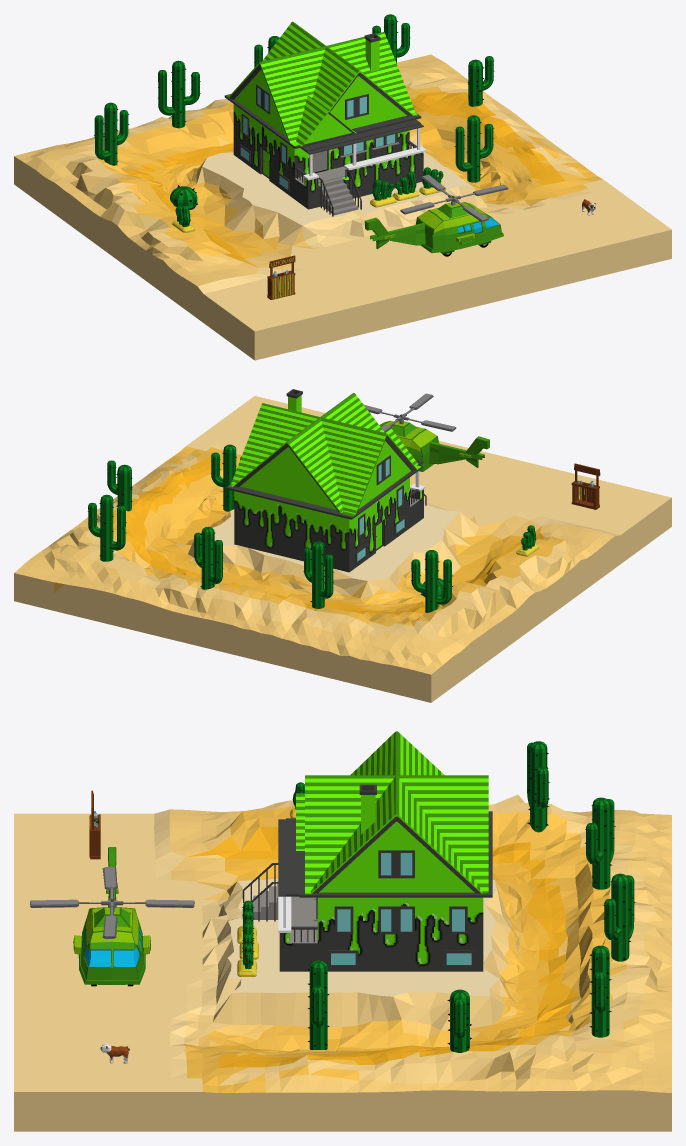
3 renders of one model, top to bottom at view 1: azimuth 30°, elevation 25°; view 2: azimuth 150°, elevation 25°; view 3: azimuth 270°, elevation 25°, orthographic. The views are drawn at different scales.
Parts seen in each view (by area): view 1: Cube.001, Cube.754, VEHICLES_HELICOPTER, Cylinder.037, Cylinder.044, Cylinder.045, Cylinder.038, OBJRANDOM_LEMONADE_STAND, Cylinder.042, Cylinder.039, Sphere.023, Cylinder.040; view 2: Cube.001, Cube.754, VEHICLES_HELICOPTER, Cylinder.042, Cylinder.045, Cylinder.044, Cylinder.043, Cylinder.037, OBJRANDOM_LEMONADE_STAND, Cylinder.038; view 3: Cube.001, Cube.754, VEHICLES_HELICOPTER, Cylinder.043, Cylinder.044, Cylinder.045, Cylinder.042, Cylinder.037, Cylinder.038, OBJRANDOM_LEMONADE_STAND, Cylinder.041.
Part boxes in pixels (x1,y1,x2,y2): Cube.001: (14, 54, 671, 360); Cube.754: (224, 21, 426, 216); VEHICLES_HELICOPTER: (364, 174, 508, 256); Cylinder.037: (454, 115, 493, 182); Cylinder.044: (158, 60, 200, 128); Cylinder.045: (94, 102, 129, 165); Cylinder.038: (468, 56, 494, 106); OBJRANDOM_LEMONADE_STAND: (267, 255, 295, 299); Cylinder.042: (372, 14, 410, 63); Cylinder.039: (370, 179, 396, 207); Sphere.023: (170, 185, 197, 209); Cylinder.040: (392, 171, 419, 200); Cube.001: (14, 396, 671, 702); Cube.754: (226, 389, 426, 572); VEHICLES_HELICOPTER: (364, 393, 489, 471); Cylinder.042: (88, 494, 126, 561); Cylinder.045: (411, 550, 452, 612); Cylinder.044: (303, 541, 333, 608); Cylinder.043: (194, 526, 222, 589); Cylinder.037: (211, 444, 241, 511); OBJRANDOM_LEMONADE_STAND: (571, 463, 600, 509); Cylinder.038: (107, 460, 132, 511); Cube.001: (14, 794, 671, 1131); Cube.754: (242, 731, 492, 971); VEHICLES_HELICOPTER: (30, 847, 194, 986); Cylinder.043: (603, 873, 635, 961); Cylinder.044: (585, 797, 615, 889); Cylinder.045: (527, 741, 549, 832); Cylinder.042: (589, 945, 611, 1037); Cylinder.037: (307, 960, 329, 1049); Cylinder.038: (447, 989, 471, 1052); OBJRANDOM_LEMONADE_STAND: (89, 790, 100, 859); Cylinder.041: (237, 933, 256, 976).
Bounding box in the file's own units: 4002 × 1626 × 4001.
38 materials, 3 textured.
